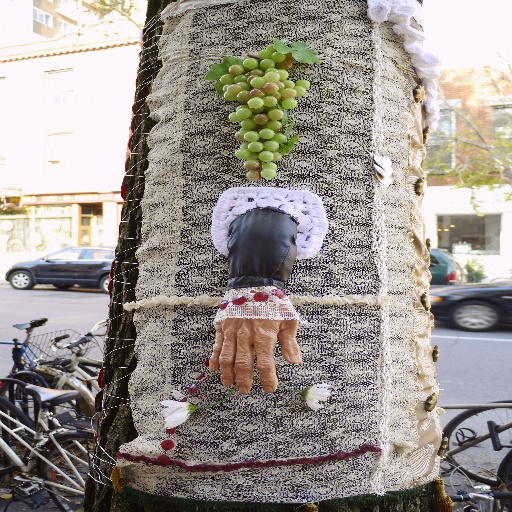hand: (206, 288, 306, 394)
